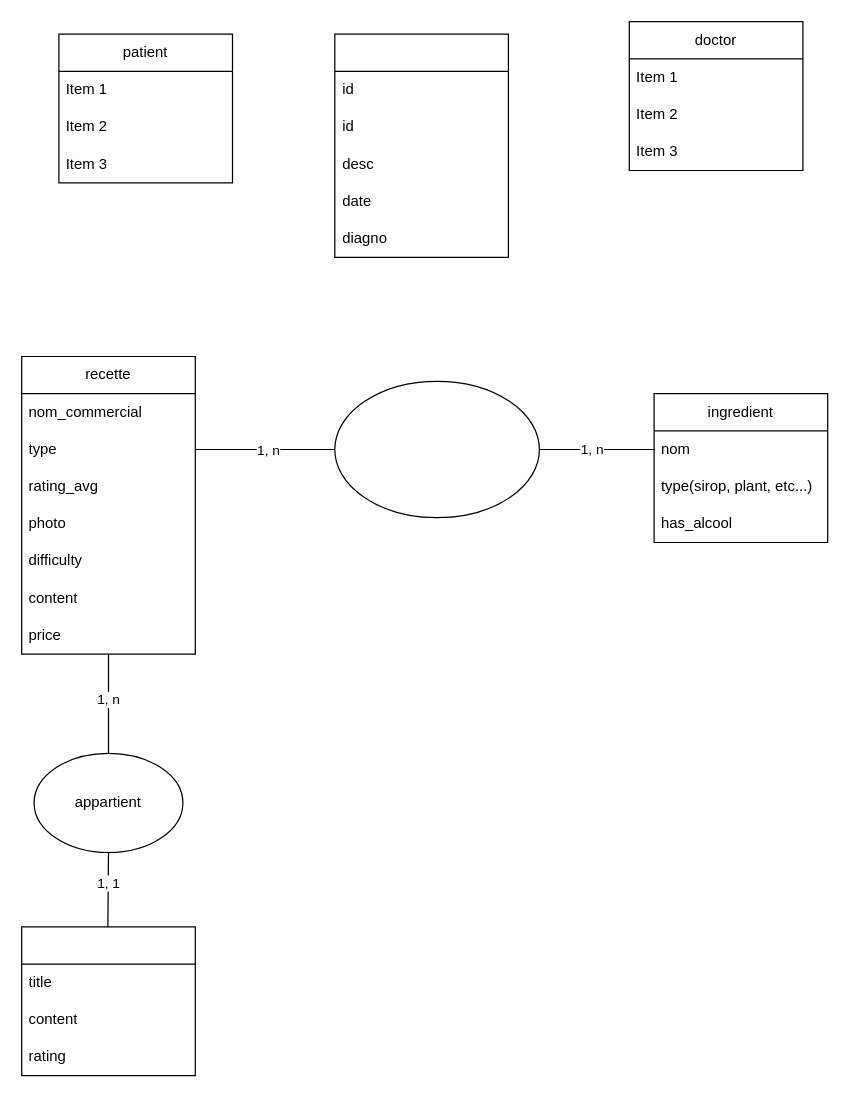
The diagram is 849 pixels wide and 1097 high, and some of its shapes have lost their labels. The box of each missing label's shape, as (x1, y1, x2, y2) in pixels:
comment: (20, 926, 195, 1076)
consultation: (334, 33, 508, 257)
dose recipe_id ingredient_id quantity (gr, cl, ml): (334, 380, 539, 518)
